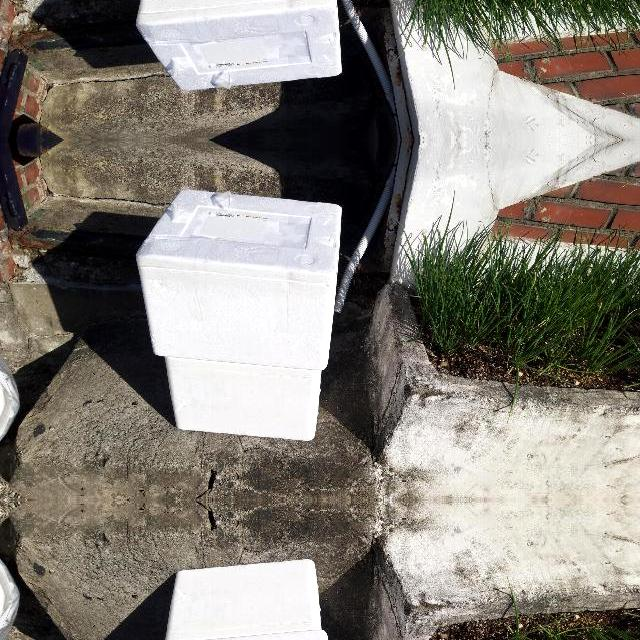Styrofoam: (136, 189, 342, 370), (136, 190, 342, 370), (136, 0, 342, 91), (136, 0, 341, 90), (164, 355, 320, 441), (165, 357, 321, 440), (164, 559, 320, 640), (165, 560, 321, 640)
